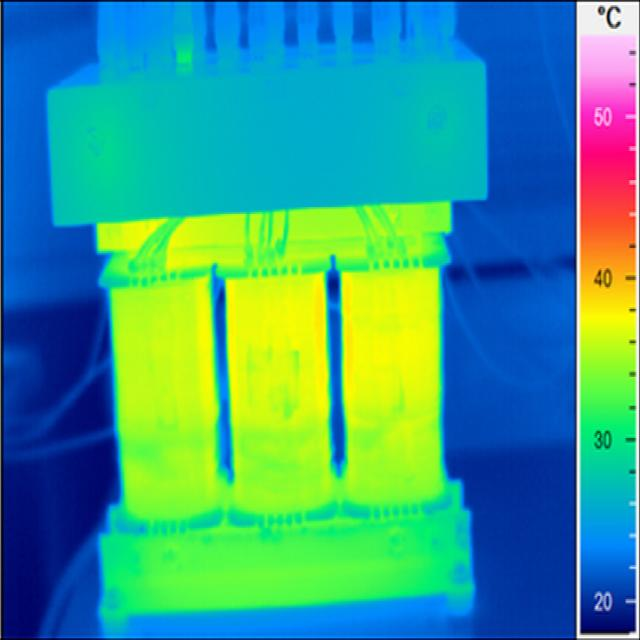Transformer: (48, 3, 502, 631)
